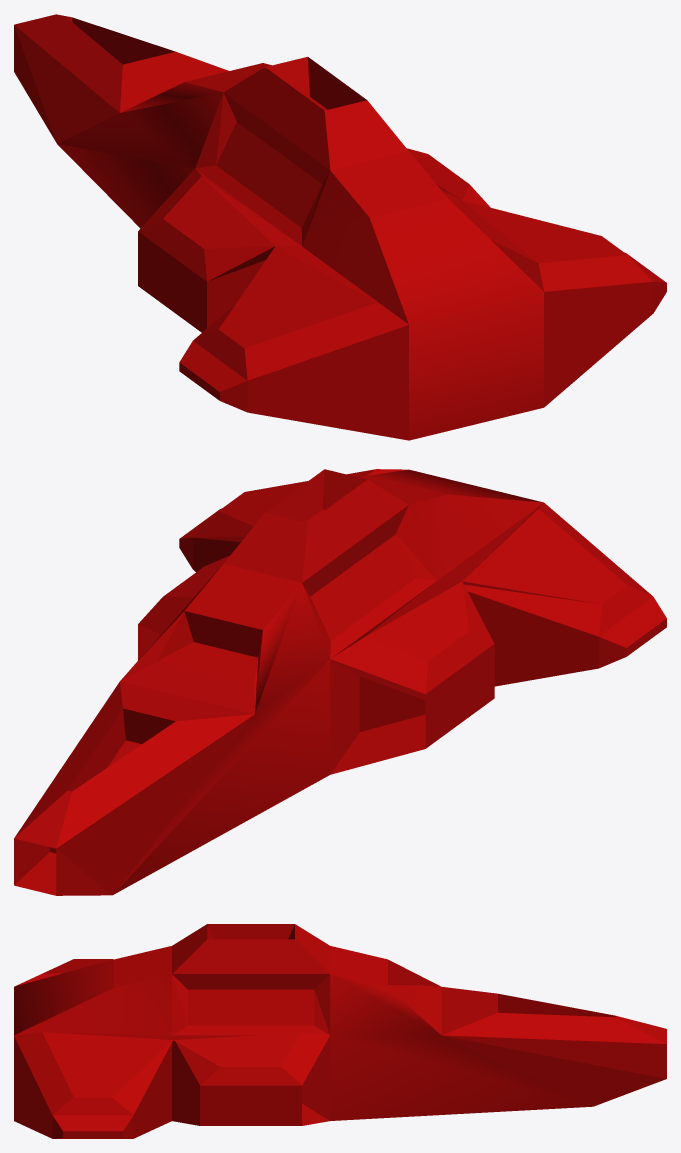
The model's file is Minion.fbx.
3 views of the same model, one above another, from view 1: azimuth 30°, elevation 25°; view 2: azimuth 150°, elevation 25°; view 3: azimuth 270°, elevation 25° (orthographic). The views are drawn at different scales.
Parts seen in each view (by area): view 1: Invocation; view 2: Invocation; view 3: Invocation.
Part boxes in pixels (x1,y1,x2,y2): Invocation: (14, 14, 666, 440); Invocation: (14, 469, 666, 895); Invocation: (14, 924, 666, 1138).
Size of the model in its own units: 109 by 186 by 51.85.
